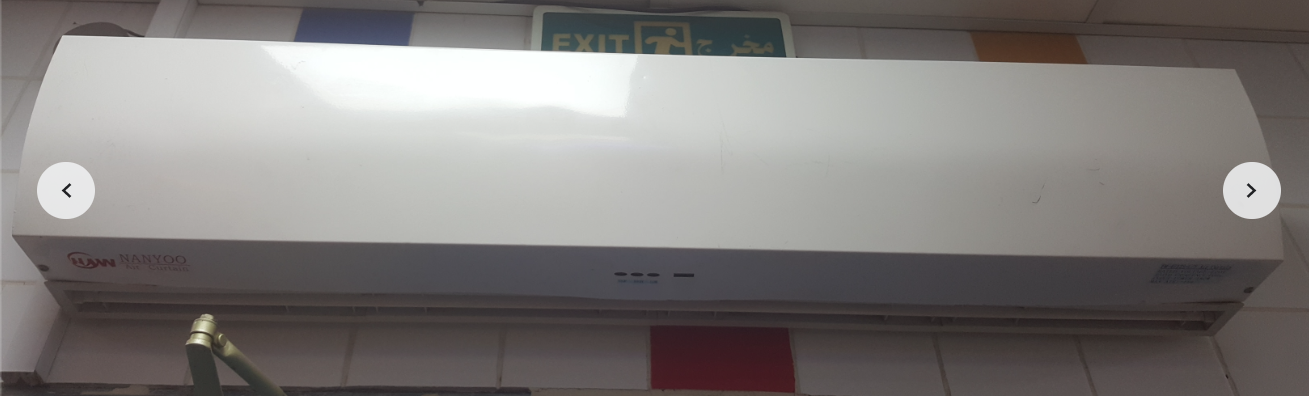Air Curtain: (9, 21, 1293, 349)
